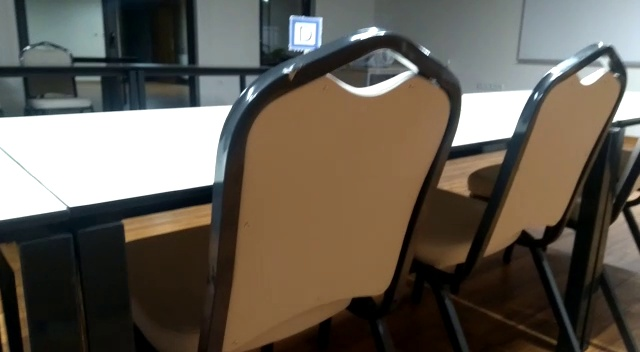durak: (288, 15, 323, 52)
